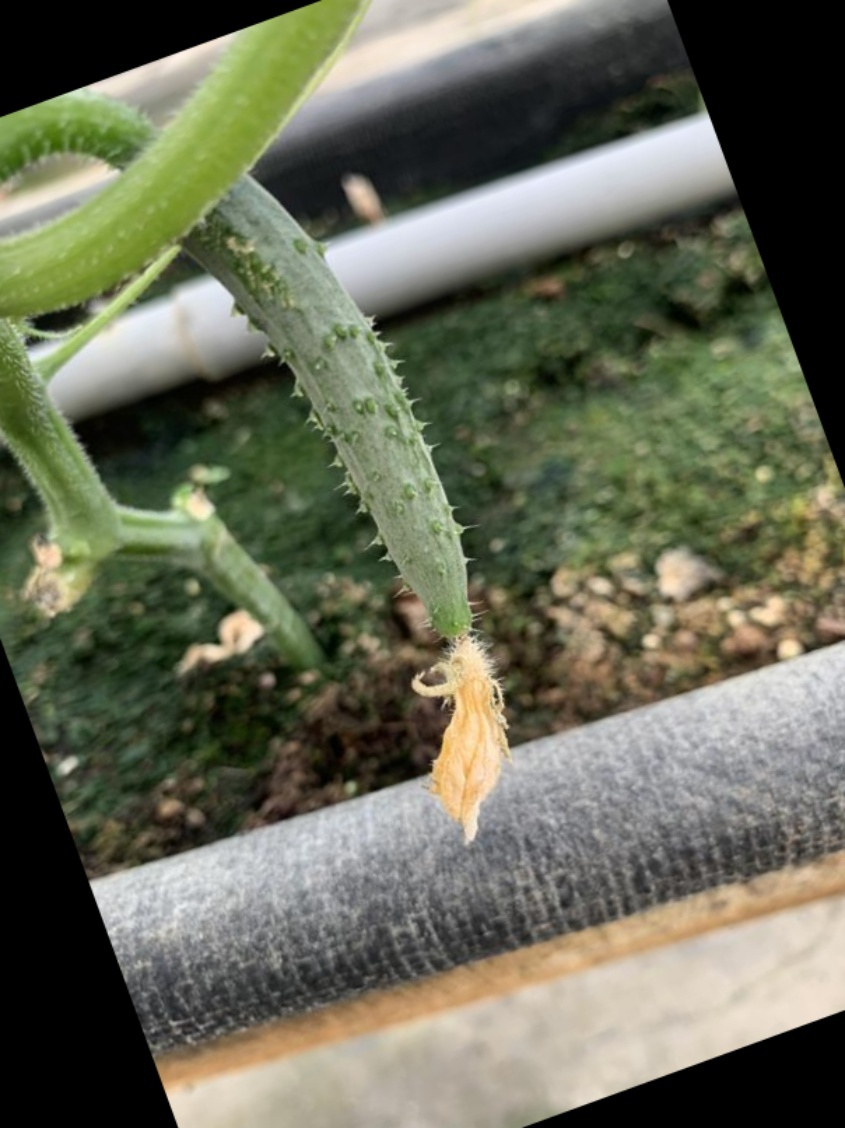growth: (154, 166, 564, 816)
